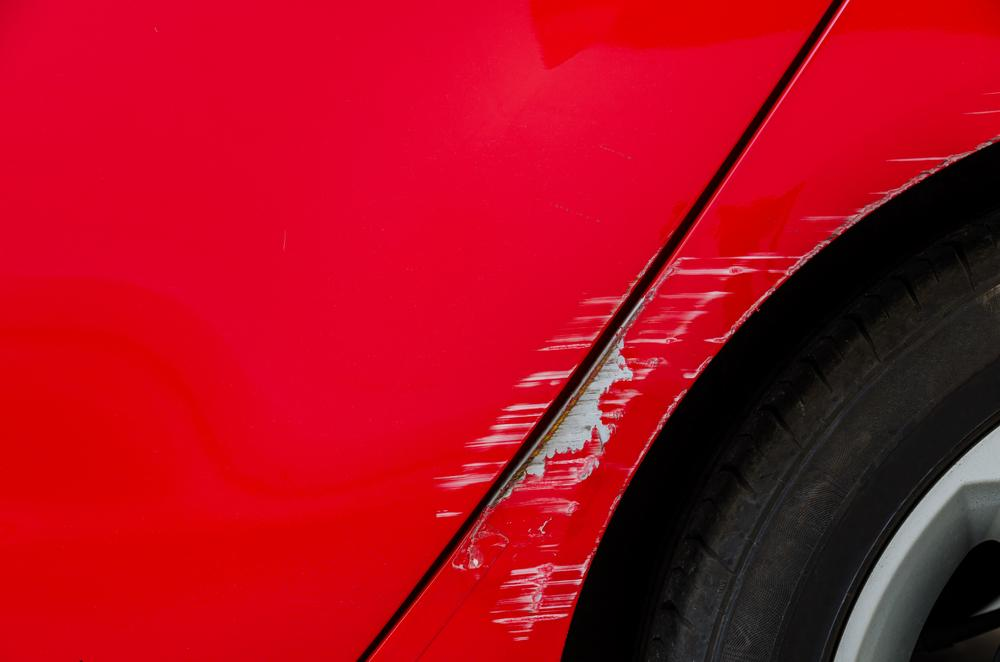scratch: (449, 90, 1000, 645), (427, 249, 663, 523)
